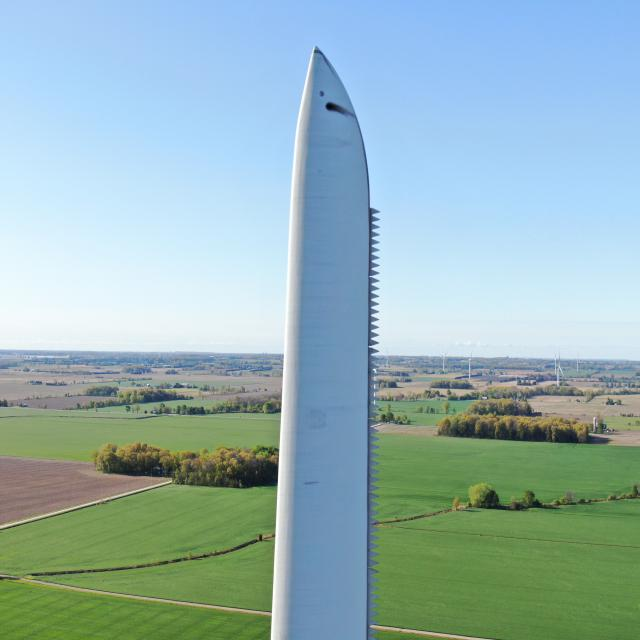damage: (324, 99, 356, 120)
